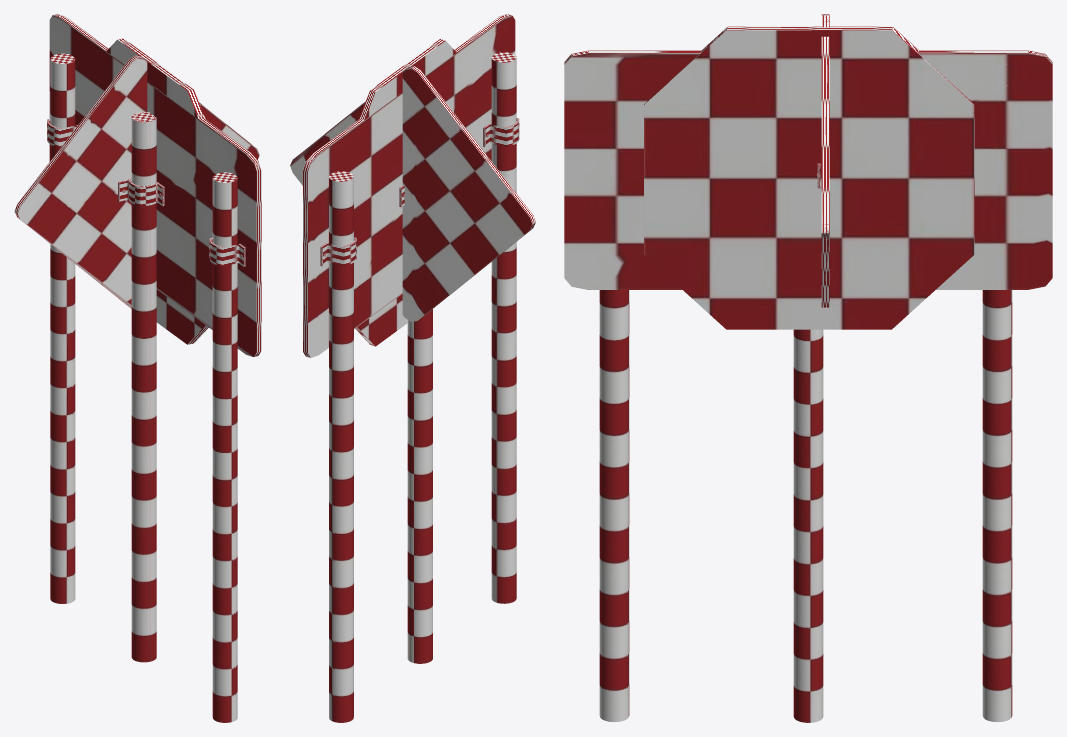
The model's file is Placas_Trânsito - OK.fbx.
3 views of the same model, side by side, from view 1: azimuth 30°, elevation 25°; view 2: azimuth 150°, elevation 25°; view 3: azimuth 270°, elevation 25° (orthographic). The views are drawn at different scales.
Visible parts, largest first — view 1: polySurface3, pCube6, pCube5; view 2: polySurface3, pCube6, pCube5; view 3: pCube5, polySurface3, pCube6.
Part boxes in pixels (x1=…): polySurface3: x1=47, y1=14, x2=261, y2=722; pCube6: x1=14, y1=55, x2=259, y2=661; pCube5: x1=106, y1=38, x2=208, y2=662; polySurface3: x1=303, y1=14, x2=519, y2=722; pCube6: x1=290, y1=66, x2=535, y2=662; pCube5: x1=355, y1=39, x2=456, y2=663; pCube5: x1=644, y1=26, x2=974, y2=329; polySurface3: x1=564, y1=50, x2=1052, y2=722; pCube6: x1=793, y1=14, x2=829, y2=722.
Size of the model in its own units: 1.65 by 3.89 by 2.45.
3 materials, 3 textured.
